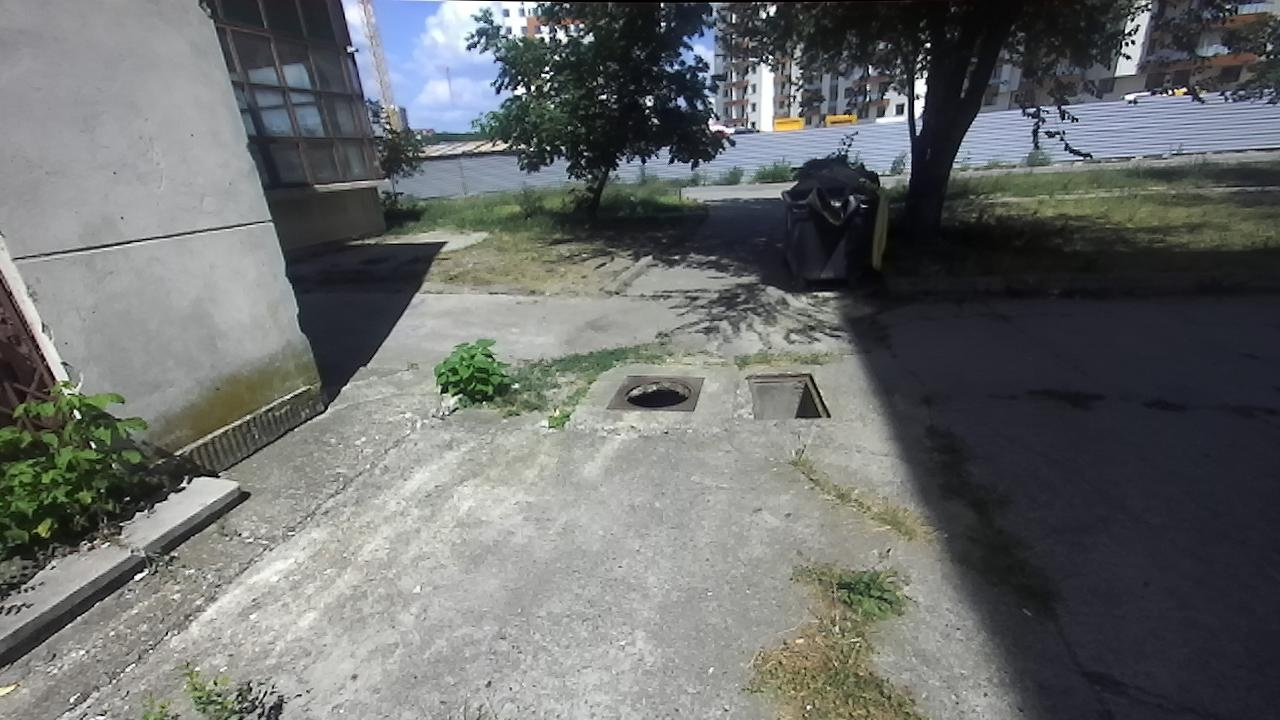drain: (746, 372, 836, 422), (617, 374, 697, 414)
